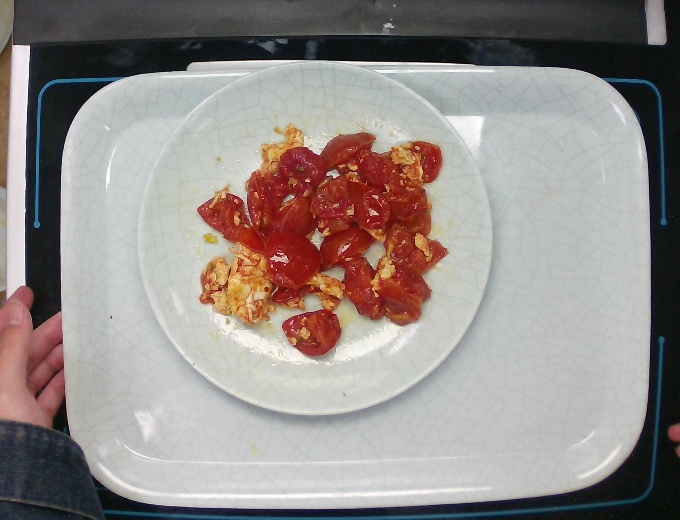JYsf-Da_Yuan_Pan: (131, 56, 498, 423)
